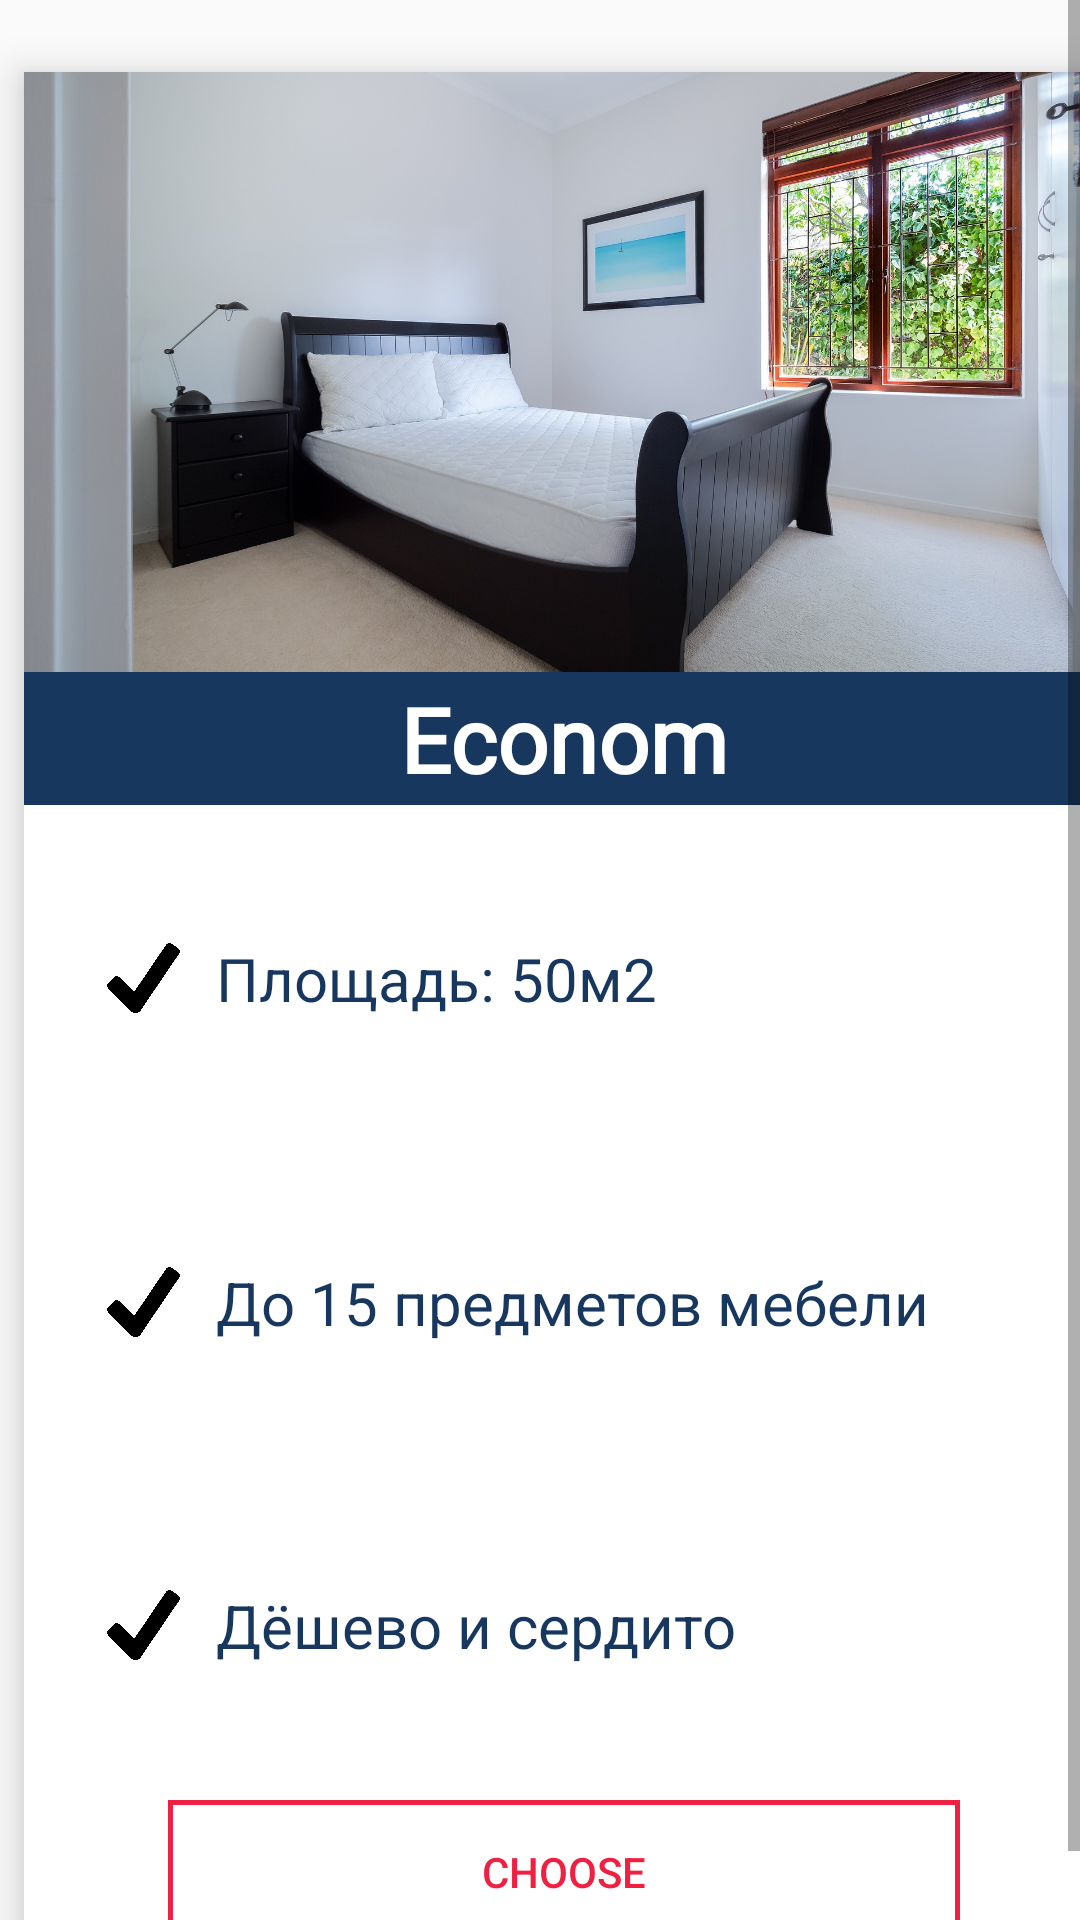

Named icons in this screenshot (1080×1920) and their bounding boxes, (x1, y1, x2, y2):
galochka: (107, 943, 180, 1013), (107, 1267, 180, 1337), (107, 1590, 180, 1660)
